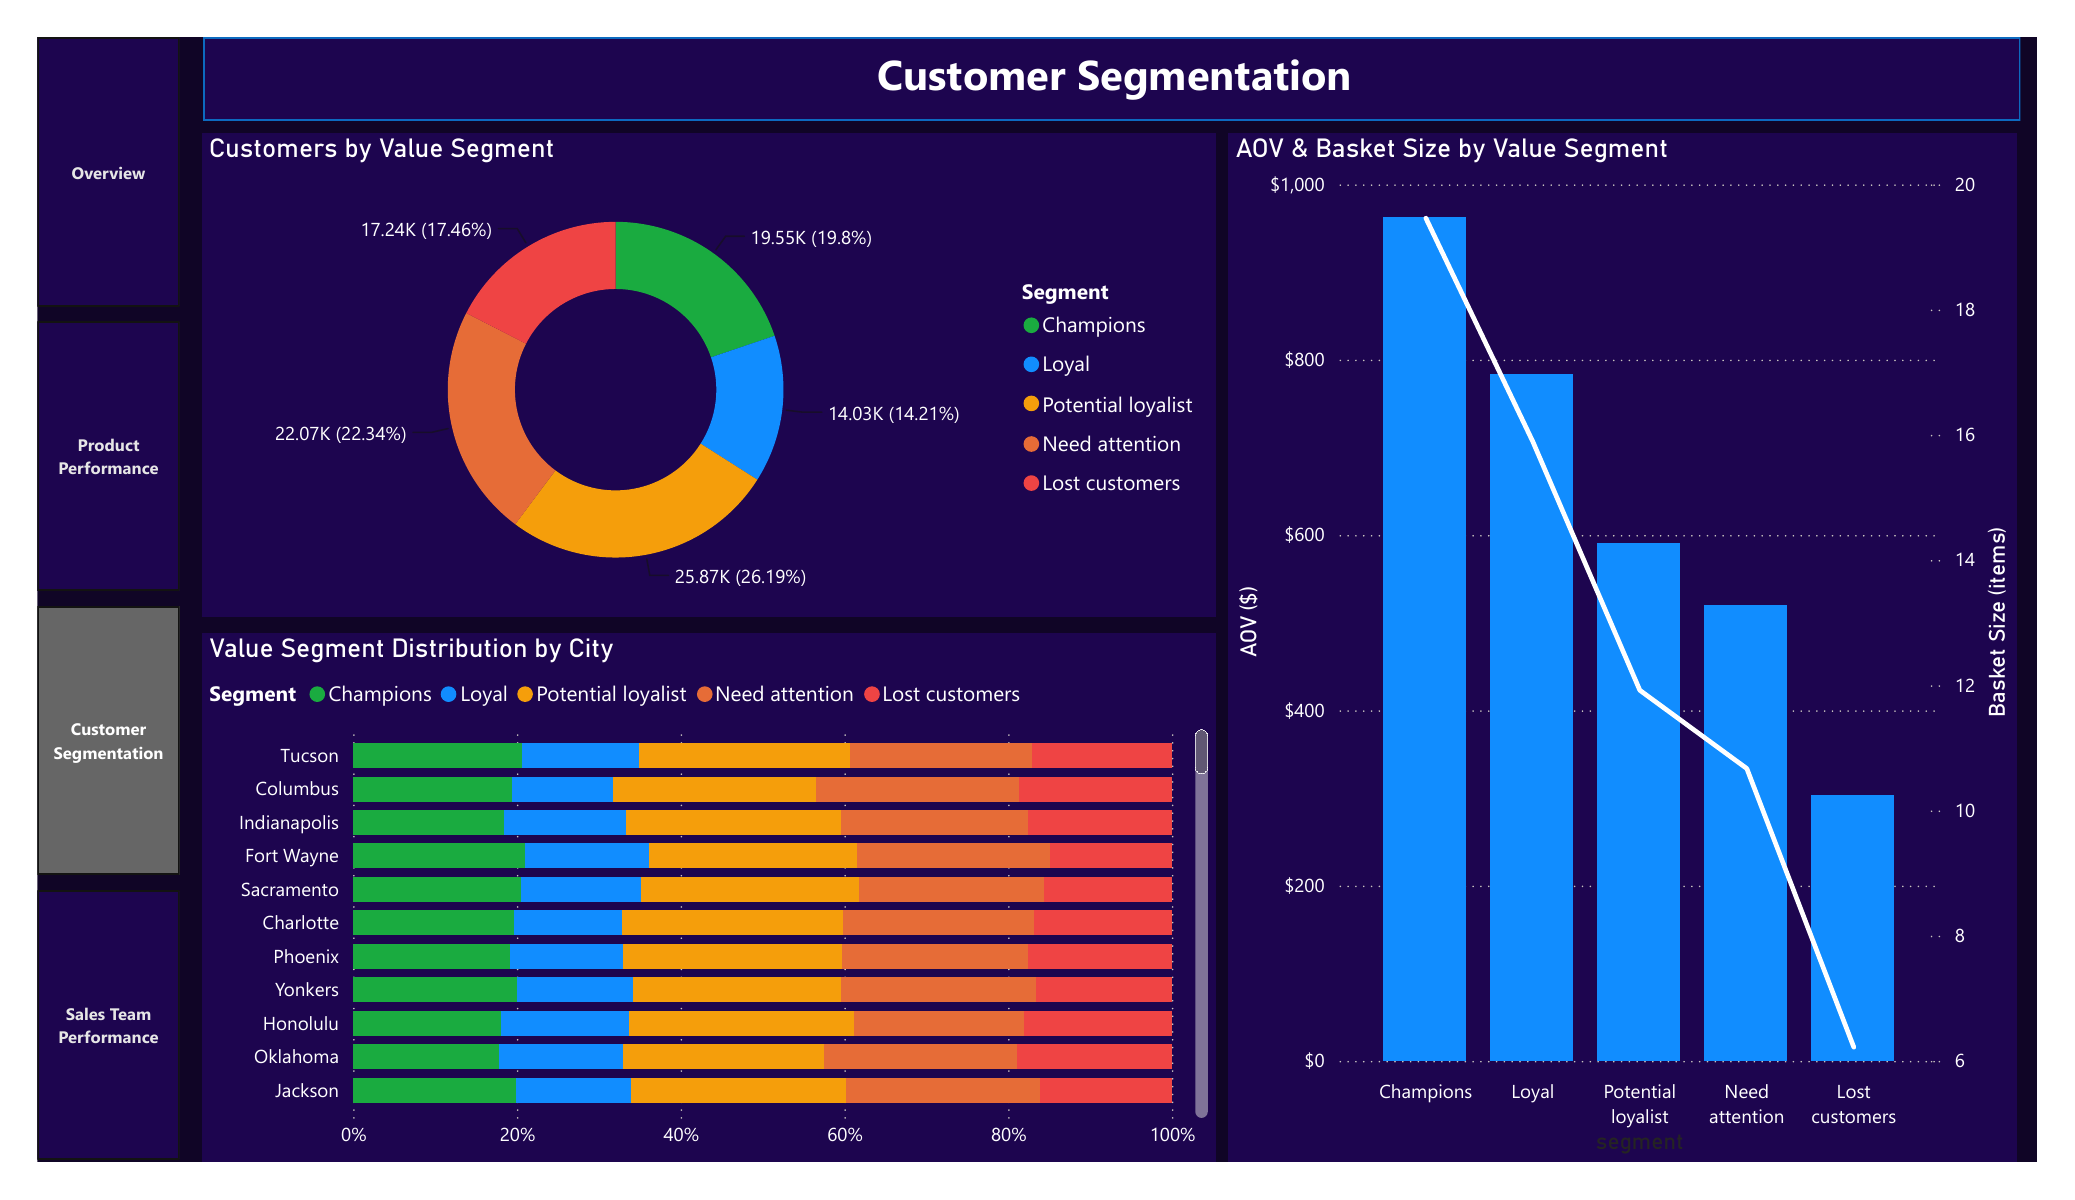

Layout of this report page (visuals, bound fields, positions):
{"tool":"powerbi","page":{"name":"Customer Segmentation","canvas":[1280,720],"ordinal":2},"visuals":[{"type":"pageNavigator","box":[0,0,91.2,720],"z":0},{"type":"shape","box":[105.5,0,1163.2,52.6],"z":0,"group":"g1"},{"type":"textbox","box":[110.6,0,1157,52.8],"z":1000,"group":"g1"},{"type":"lineClusteredColumnComboChart","title":"AOV & Basket Size by Value Segment","fields":{"Category":["fmcg vw_customer_segment_summary.segment"],"Y":["Avg(fmcg vw_customer_segment_summary.aov)"],"Y2":["Avg(fmcg vw_customer_segment_summary.avg_basket_size)"]},"box":[762,61.4,505.5,658.9],"z":1000},{"type":"donutChart","title":"Customers by Value Segment","fields":{"Y":["CountNonNull(fmcg vw_customer_segment_fm.customerid)"],"Category":["fmcg vw_customer_segment_fm.segment"]},"box":[105,61.2,648.8,310],"z":2000},{"type":"hundredPercentStackedBarChart","title":"Value Segment Distribution by City","fields":{"Category":["fmcg vw_customer_segment_fm.cityname"],"Series":["fmcg vw_customer_segment_fm.segment"],"Y":["CountNonNull(fmcg vw_customer_segment_fm.customerid)"]},"box":[105,381.2,648.8,338.8],"z":3000},{"type":"group","id":"g1","title":"Group 3","box":[105.5,0,1162,52.8],"z":4000}]}

Visuals, with their boxes on the page's 1280x720 design canvas (x1, y1, x2, y2). These are canvas units, not pixel positions in the 2075x1200 screenshot, which may show the page scaled, cropped or inside an application window:
pageNavigator: (0,0,91,720)
shape: (106,0,1269,53)
textbox: (111,0,1268,53)
"AOV & Basket Size by Value Segment" lineClusteredColumnComboChart: (762,61,1268,720)
"Customers by Value Segment" donutChart: (105,61,754,371)
"Value Segment Distribution by City" hundredPercentStackedBarChart: (105,381,754,720)
"Group 3" group: (106,0,1268,53)
